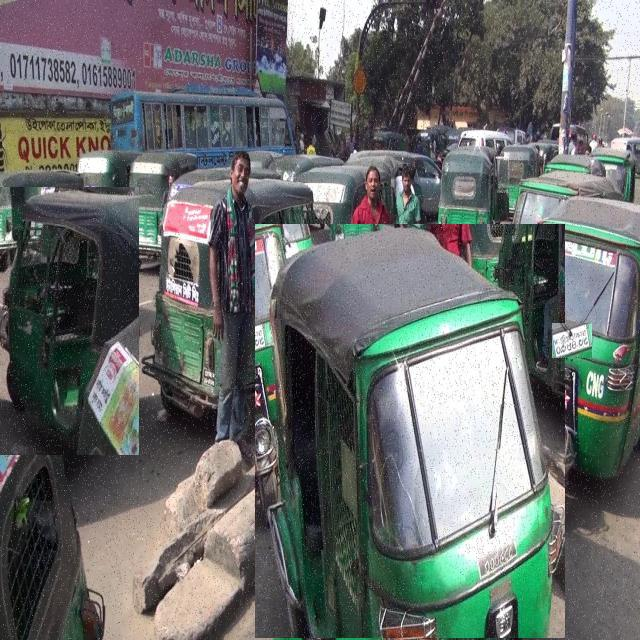cng: (255, 224, 565, 638), (141, 154, 326, 460), (0, 187, 139, 455), (529, 195, 639, 483)
numberplate: (552, 323, 592, 358)
